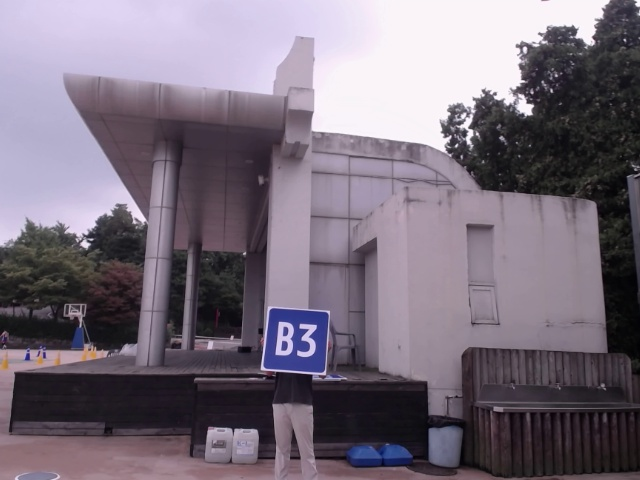delivery_b3: (266, 310, 328, 374)
